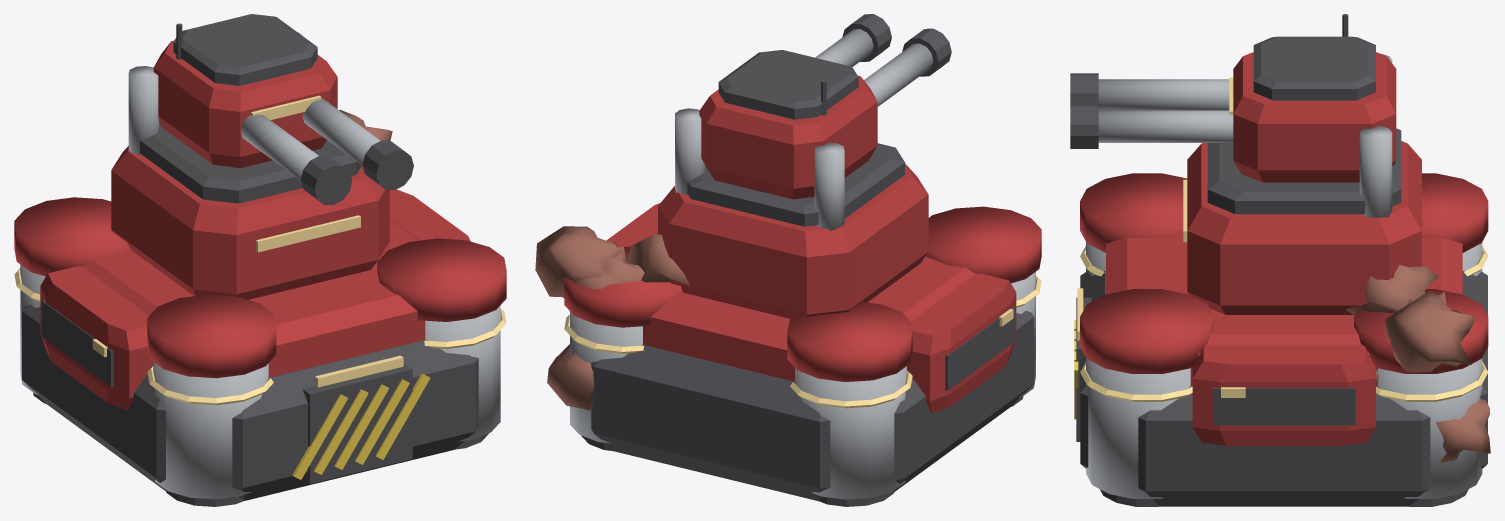
Rendered from CommandCenter.fbx.
The picture shows the model from 3 angles, left to right: view 1: azimuth 30°, elevation 25°; view 2: azimuth 150°, elevation 25°; view 3: azimuth 270°, elevation 25°; orthographic projection. The views are drawn at different scales.
Visible parts, largest first — view 1: CCRed, CCDark, CCMetal, CCRed.001.Cannon, CCDark.001.Cannon, CCLight, CCMetal.001.Cannon, CCHazard, CCLight.001.Cannon; view 2: CCRed, CCDark, CCMetal, CCRed.001.Cannon, CCFlesh, CCDark.001.Cannon, CCMetal.001.Cannon, CCLight; view 3: CCRed, CCDark, CCMetal, CCRed.001.Cannon, CCDark.001.Cannon, CCFlesh, CCMetal.001.Cannon, CCLight.
Boxes of the visible parts, x1=… form: CCRed: x1=14, y1=146, x2=506, y2=410; CCDark: x1=22, y1=23, x2=488, y2=506; CCMetal: x1=20, y1=32, x2=500, y2=499; CCRed.001.Cannon: x1=153, y1=40, x2=337, y2=168; CCDark.001.Cannon: x1=173, y1=14, x2=413, y2=205; CCLight: x1=14, y1=215, x2=506, y2=405; CCMetal.001.Cannon: x1=240, y1=98, x2=380, y2=180; CCHazard: x1=292, y1=373, x2=430, y2=479; CCLight.001.Cannon: x1=251, y1=95, x2=321, y2=119; CCRed: x1=564, y1=163, x2=1041, y2=412; CCDark: x1=581, y1=80, x2=1034, y2=506; CCMetal: x1=570, y1=108, x2=1035, y2=499; CCRed.001.Cannon: x1=699, y1=75, x2=877, y2=199; CCFlesh: x1=535, y1=226, x2=689, y2=409; CCDark.001.Cannon: x1=718, y1=14, x2=951, y2=119; CCMetal.001.Cannon: x1=815, y1=29, x2=933, y2=106; CCLight: x1=564, y1=276, x2=1041, y2=408; CCRed: x1=1080, y1=141, x2=1488, y2=445; CCDark: x1=1076, y1=14, x2=1487, y2=506; CCMetal: x1=1086, y1=53, x2=1482, y2=498; CCRed.001.Cannon: x1=1233, y1=52, x2=1396, y2=182; CCDark.001.Cannon: x1=1070, y1=36, x2=1375, y2=148; CCFlesh: x1=1345, y1=265, x2=1490, y2=462; CCMetal.001.Cannon: x1=1098, y1=79, x2=1233, y2=142; CCLight: x1=1077, y1=179, x2=1488, y2=401.
Size of the model in its own units: 2.28 by 2.1 by 2.06.
